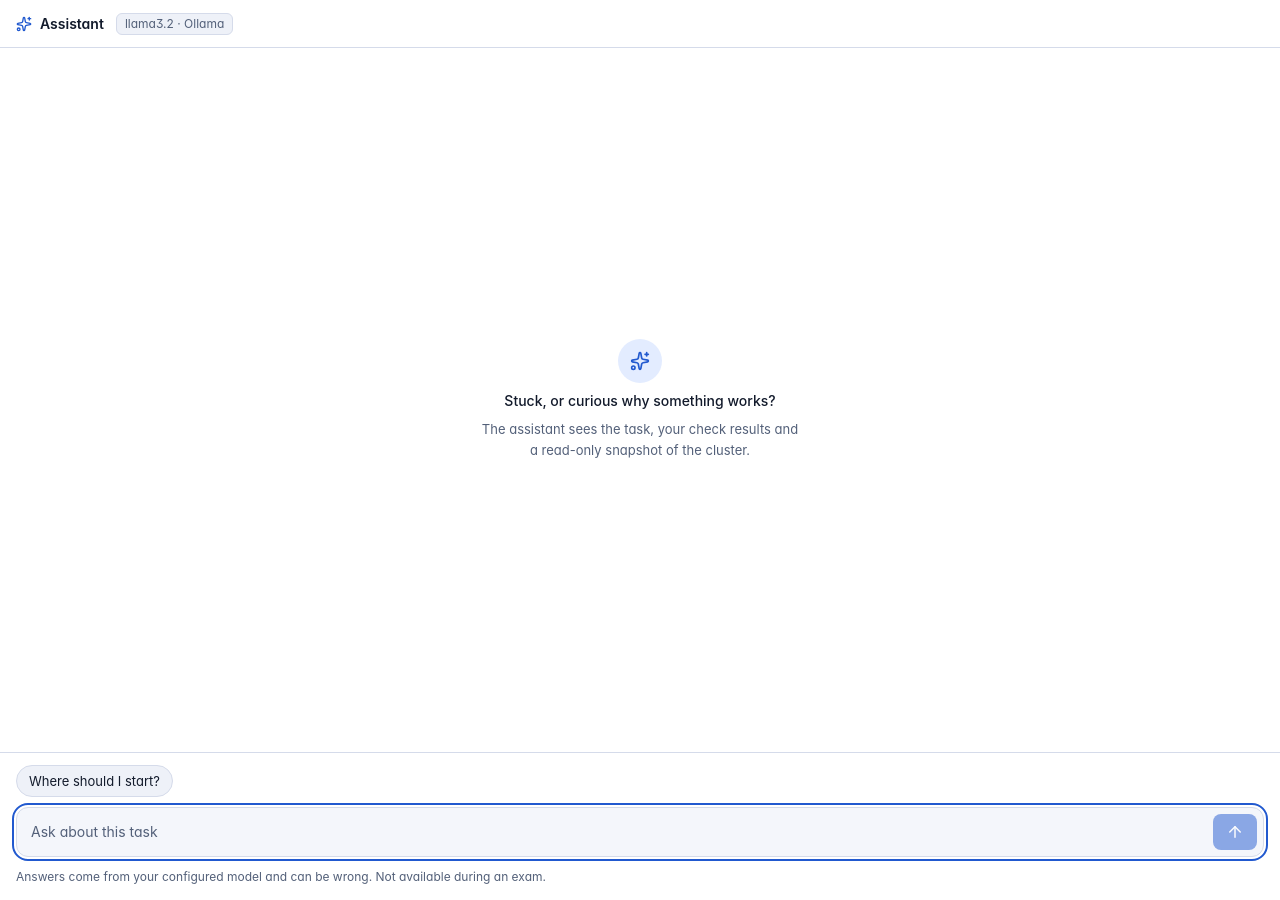
Test case: AssistantPanel › takes no text while an answer arrives, and offers Stop in place of Send
In the text box named "Ask the assistant": (618, 832) [31,814,1205,850], type "Why?"
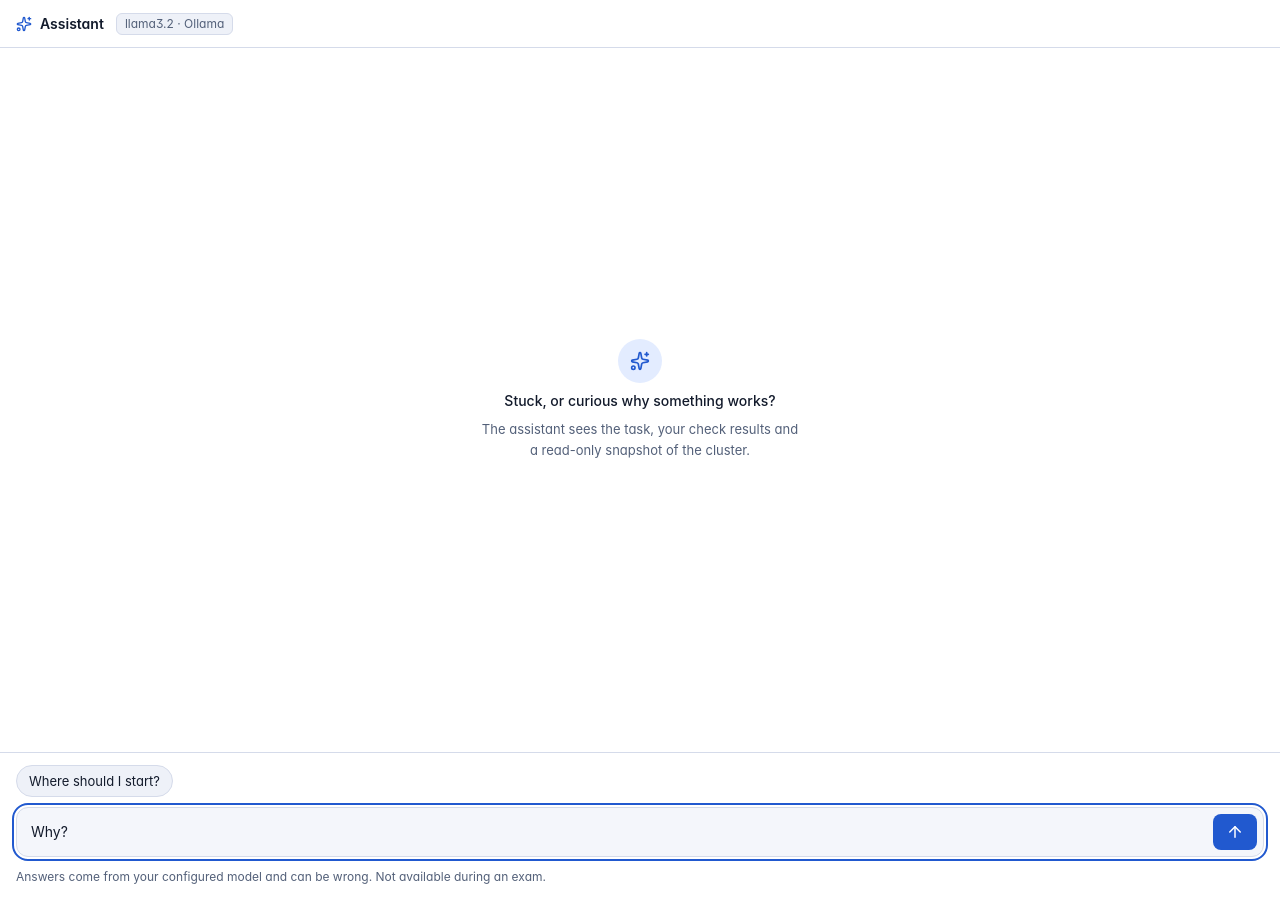
Press Enter in the text box named "Ask the assistant", box [31,814,1205,850]
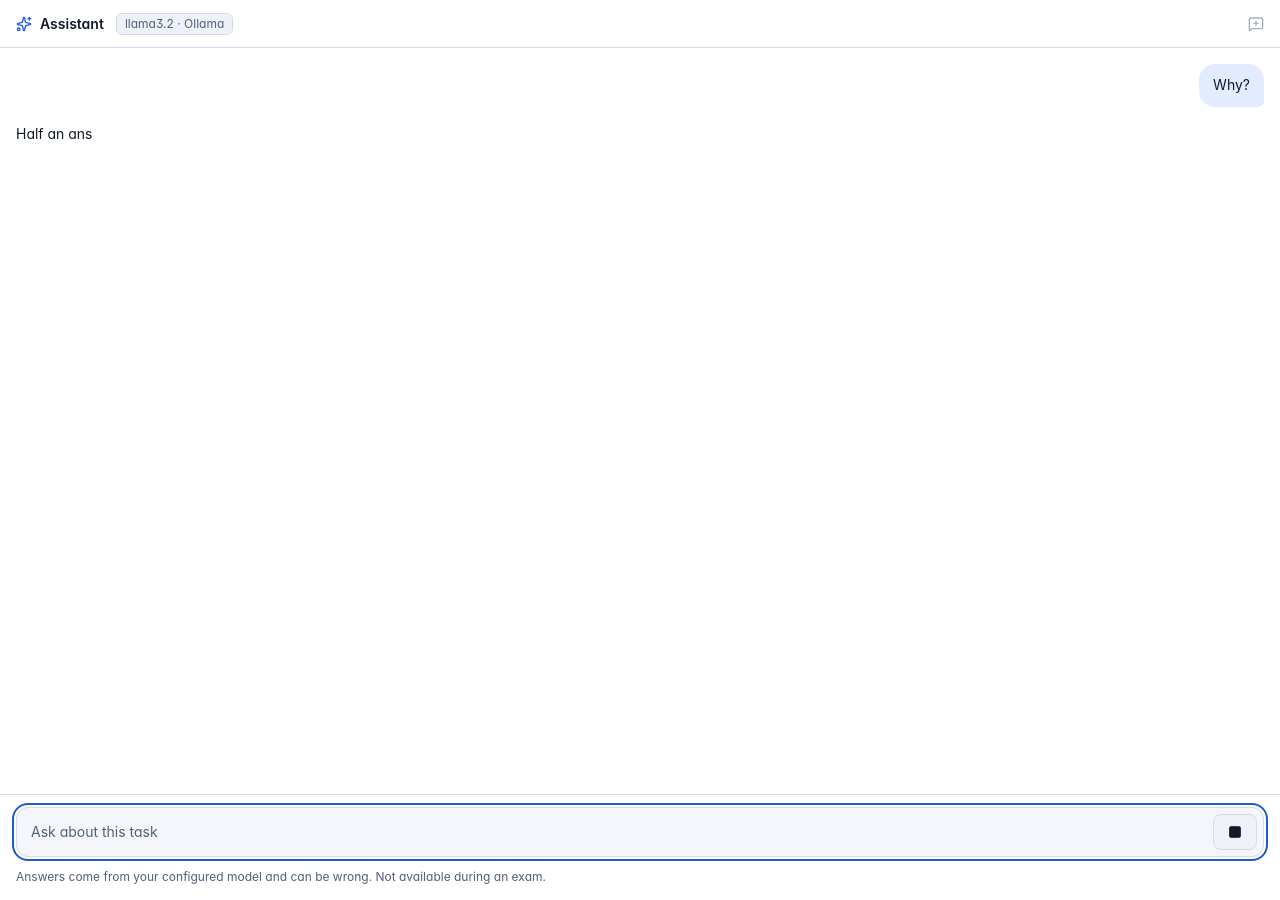
Expected: the text "Half an ans" is shown, [16,125,92,142]
Click the button named "Stop": (1235, 832) [1213,814,1257,850]
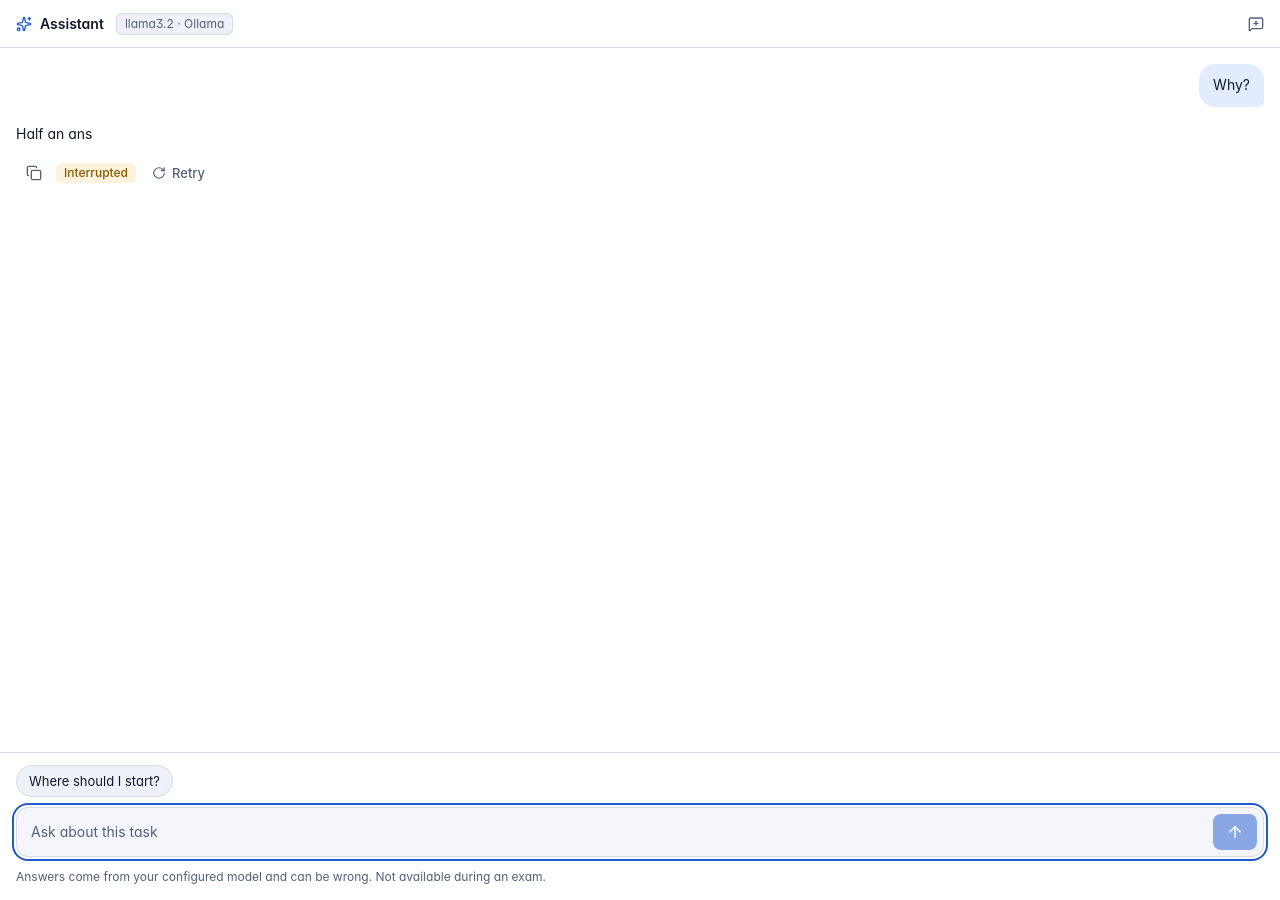
Expected: the button named "Send" is shown, [1213,814,1257,850]
Expected: the text "Interrupted" is shown, [56,163,136,183]
